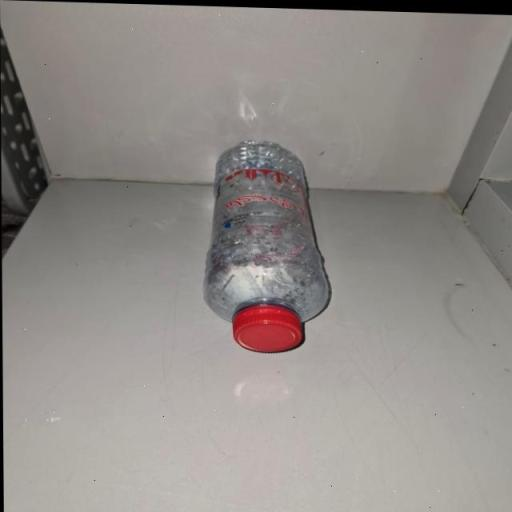plastic: (201, 136, 331, 350)
